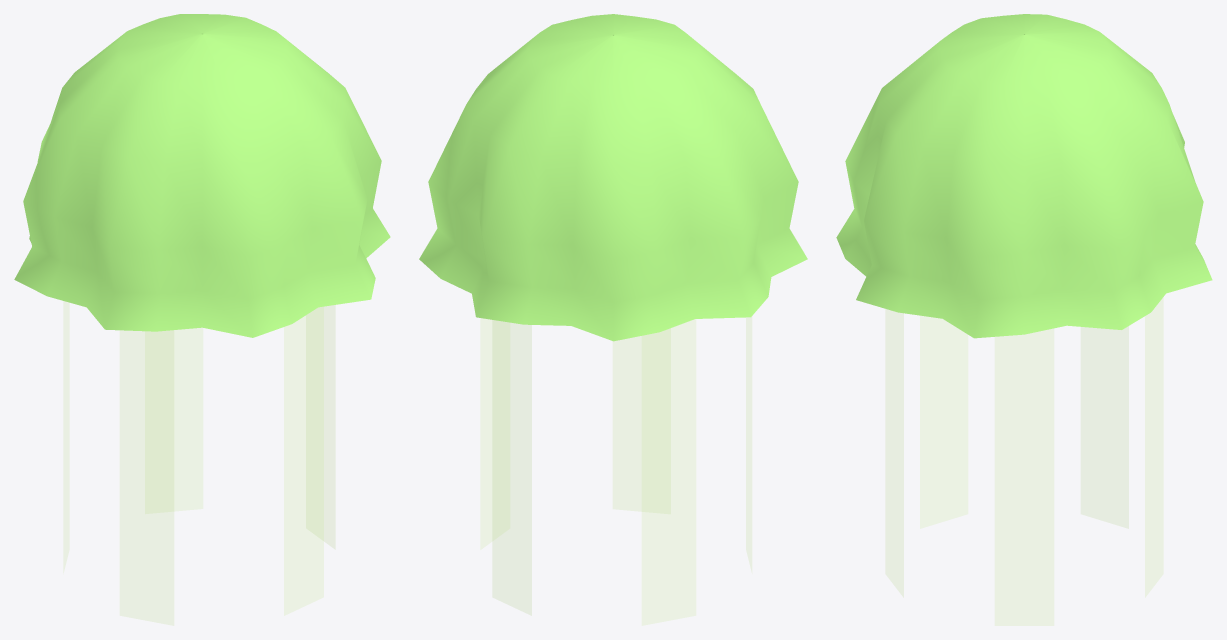
Rendered from luciole.glb.
3 renders of one model, left to right at view 1: azimuth 30°, elevation 25°; view 2: azimuth 150°, elevation 25°; view 3: azimuth 270°, elevation 25°, orthographic.
Visible parts, largest first — view 1: bell, veil_2, veil_1, veil_4, veil_0, veil_3; view 2: bell, veil_3, veil_4, veil_1, veil_0, veil_2; view 3: bell, veil_0, veil_2, veil_3, veil_4, veil_1.
Boxes of the visible parts, x1,y1,x2,y2 form: bell: (14,14,390,337); veil_2: (120,330,173,625); veil_1: (284,307,323,615); veil_4: (145,328,202,513); veil_0: (306,305,334,548); veil_3: (64,301,68,568); bell: (419,14,807,341); veil_3: (642,319,695,625); veil_4: (493,320,531,615); veil_1: (613,329,670,513); veil_0: (481,318,509,548); veil_2: (746,317,751,570); bell: (836,14,1212,338); veil_0: (995,329,1053,625); veil_2: (920,316,967,528); veil_3: (1081,326,1128,528); veil_4: (1145,299,1162,596); veil_1: (886,309,903,596).
Size of the model in its own units: 0.4408 by 0.69 by 0.4408.
